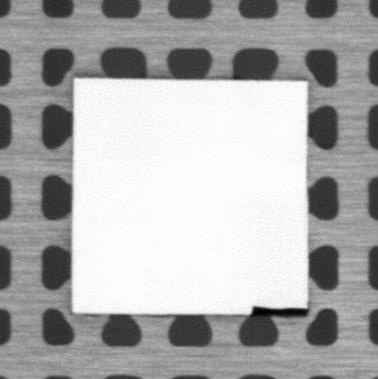DIE_BROKEN: (247, 304, 308, 318)
